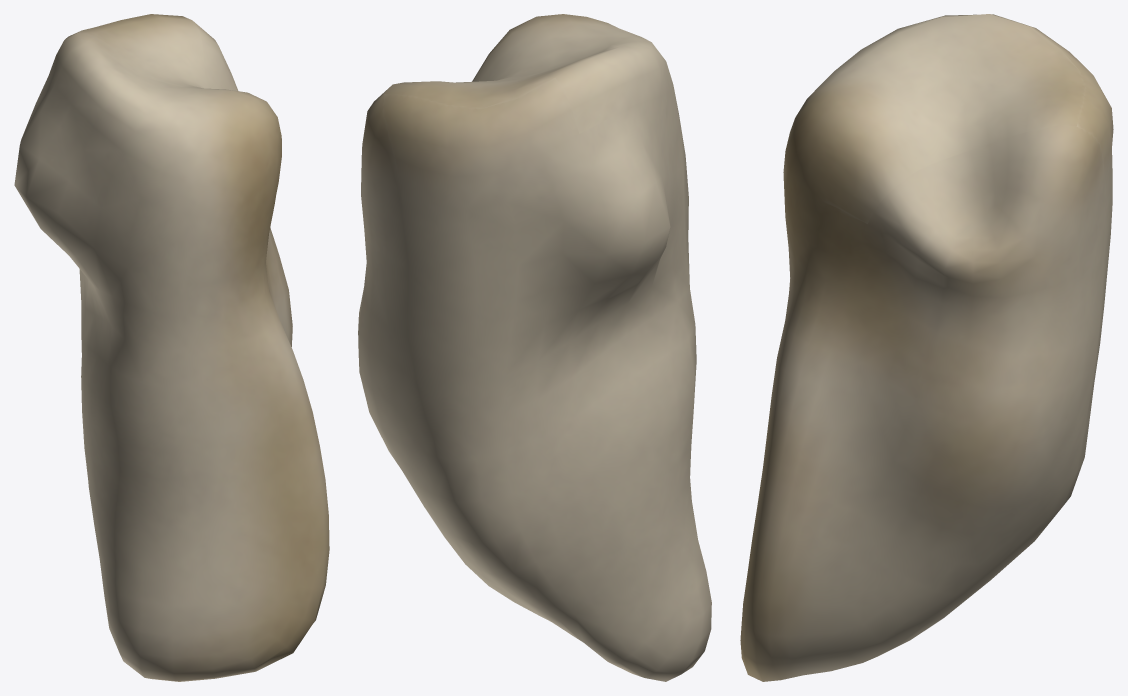
File: R tarsale quartum et quintum.fbx
3 renders of one model, left to right at view 1: azimuth 30°, elevation 25°; view 2: azimuth 150°, elevation 25°; view 3: azimuth 270°, elevation 25°, orthographic. The views are drawn at different scales.
Parts seen in each view (by area): view 1: R tarsale quartum et quintum; view 2: R tarsale quartum et quintum; view 3: R tarsale quartum et quintum.
Part boxes in pixels (<box>): R tarsale quartum et quintum: <box>14,14,329,681</box>; R tarsale quartum et quintum: <box>358,14,711,681</box>; R tarsale quartum et quintum: <box>740,14,1113,681</box>.
Size of the model in its own units: 3.29 by 7.13 by 3.77.
